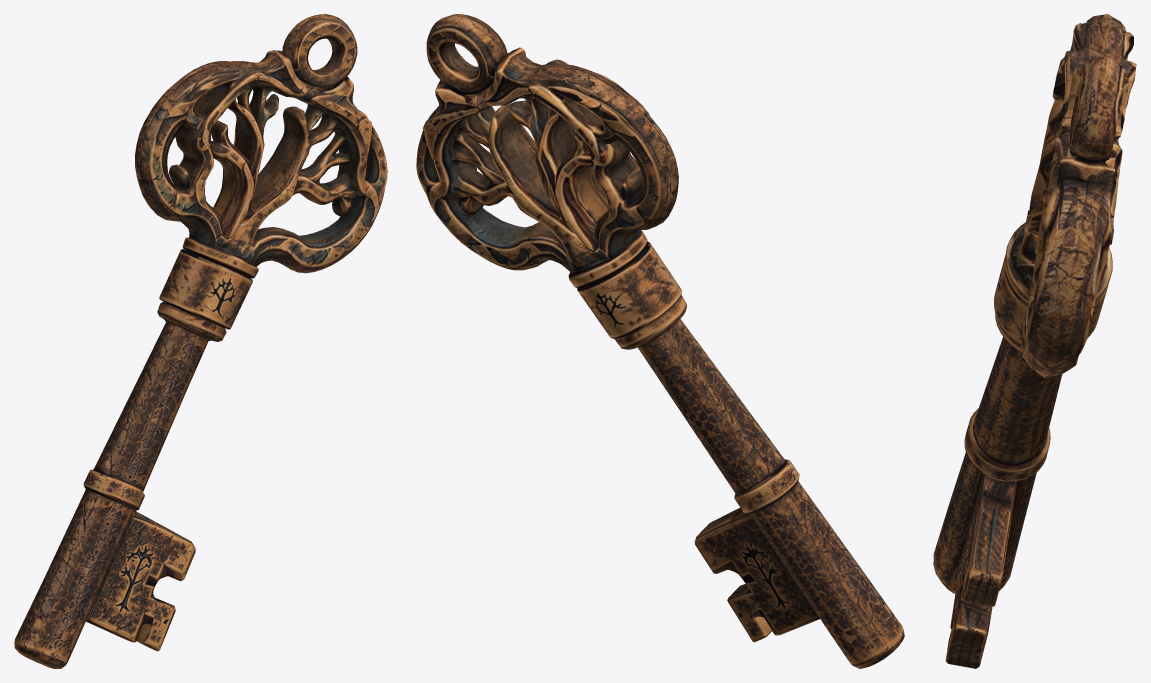
File: llave_del_bosque.glb
The picture shows the model from 3 angles, left to right: view 1: azimuth 30°, elevation 25°; view 2: azimuth 150°, elevation 25°; view 3: azimuth 270°, elevation 25°; orthographic projection. The views are drawn at different scales.
Visible parts, largest first — view 1: tripo_node_2e9b10e5-50c3-43a0-af41-586b84f283d8; view 2: tripo_node_2e9b10e5-50c3-43a0-af41-586b84f283d8; view 3: tripo_node_2e9b10e5-50c3-43a0-af41-586b84f283d8.
Part boxes in pixels (bbox=[...]): tripo_node_2e9b10e5-50c3-43a0-af41-586b84f283d8: bbox=[14, 14, 387, 668]; tripo_node_2e9b10e5-50c3-43a0-af41-586b84f283d8: bbox=[416, 14, 904, 668]; tripo_node_2e9b10e5-50c3-43a0-af41-586b84f283d8: bbox=[933, 14, 1136, 668].
Bounding box in the file's own units: 0.7632 × 0.9995 × 0.2446.
1 material, 1 textured.
